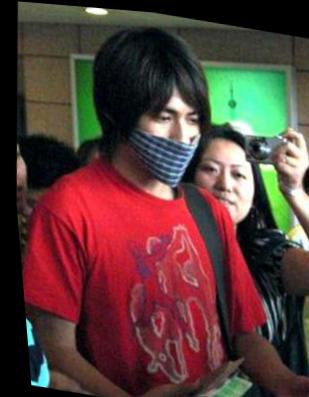NONE: (186, 139, 253, 218)
WRONG: (116, 90, 212, 186)
